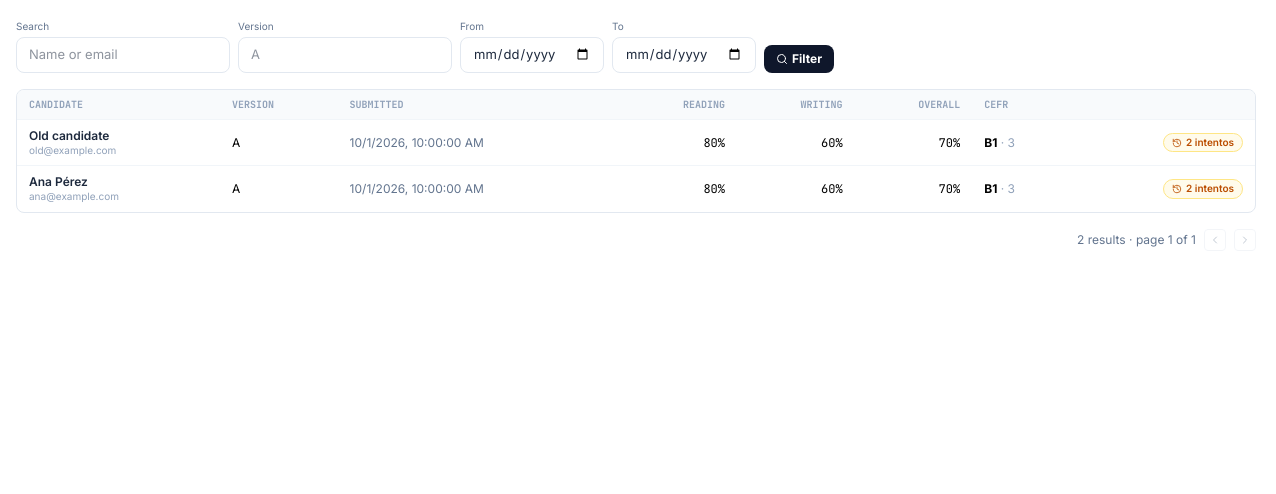
Test: ResultsTab › keeps the most recently selected attempt when detail responses arrive out of order
Click the text "old@example.com" at (73, 150), box [29,144,116,156]
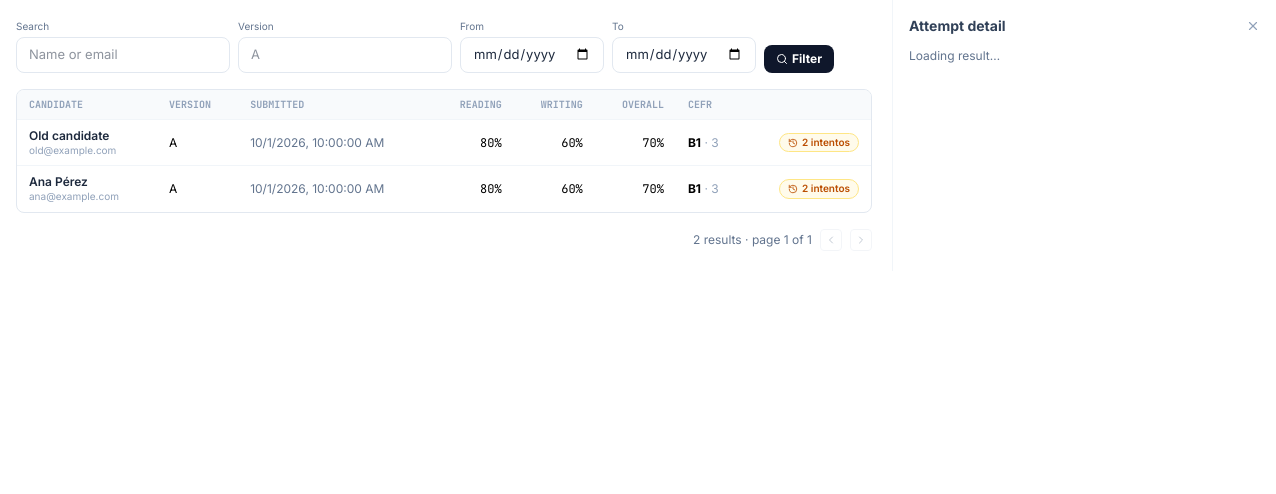
Click the text "ana@example.com" at (74, 196), box [29,190,119,202]
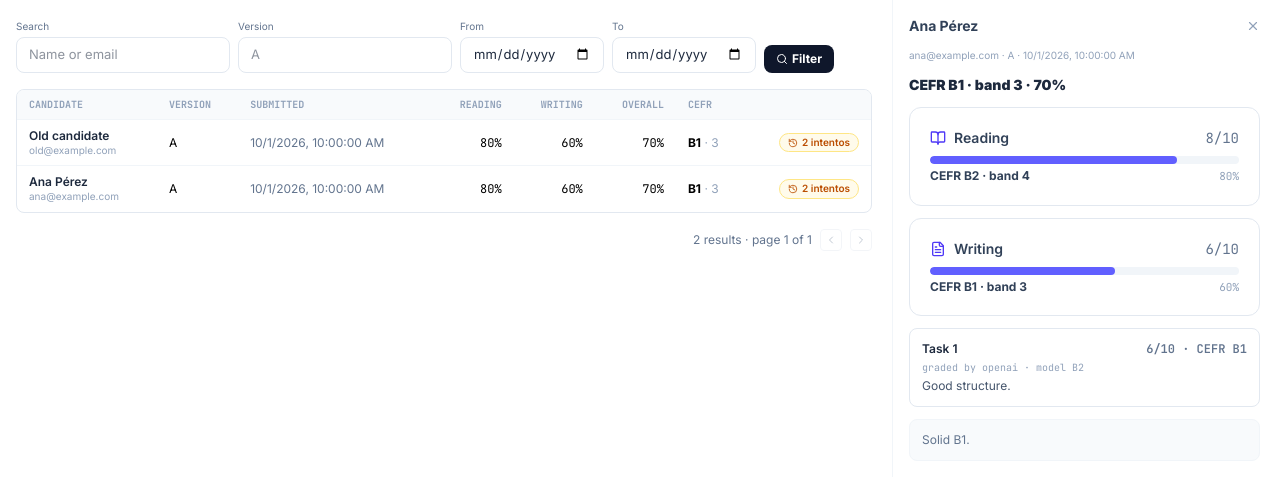
Check: the element named "Attempt detail" does not show "Old candidate", box [892,0,1275,477]
Check: the element named "Attempt detail" shows "Good structure.", box [922,378,1011,393]
